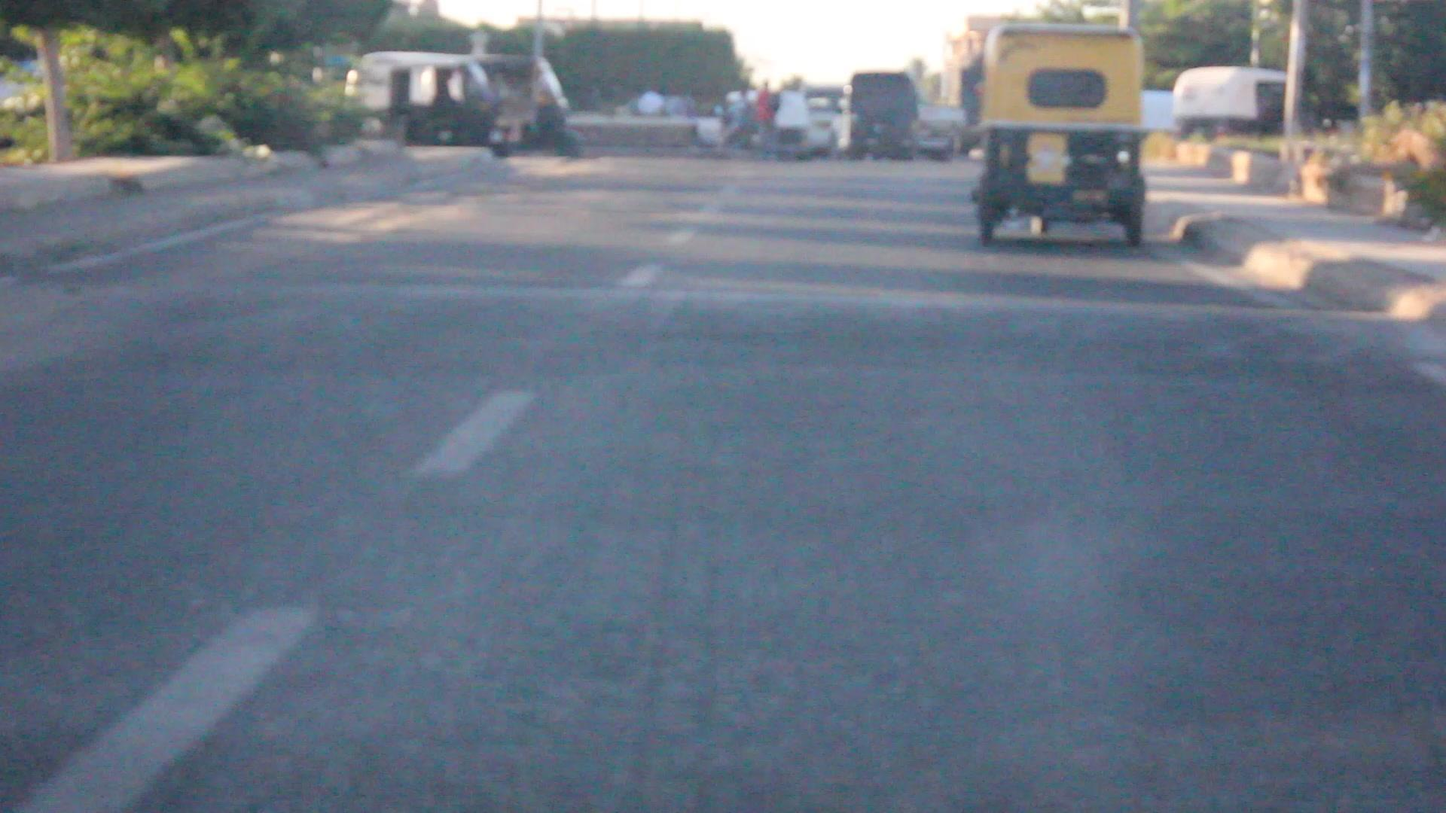Bump: (2, 287, 1445, 382)
